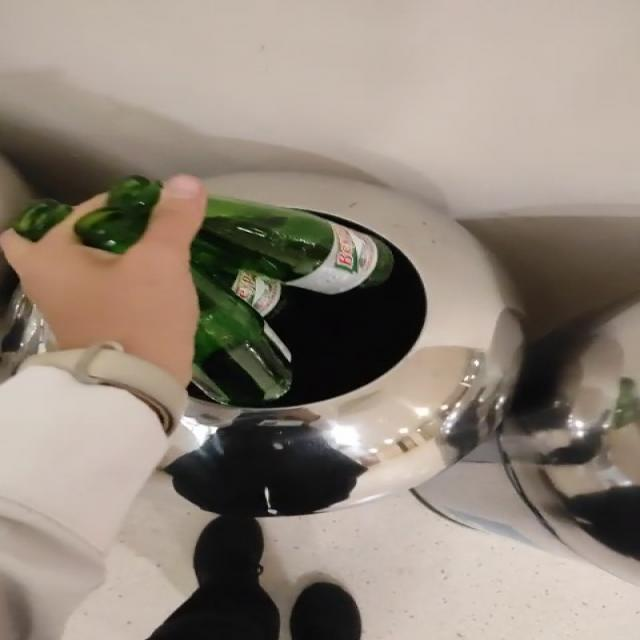Bin: (169, 172, 523, 518)
Glass: (191, 196, 393, 407), (73, 176, 161, 253), (13, 200, 71, 240)
